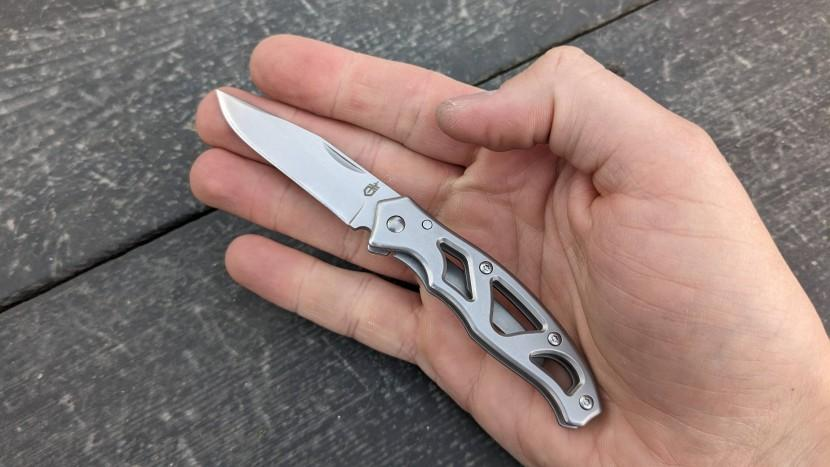Knife: (189, 34, 830, 467), (216, 88, 603, 424)
